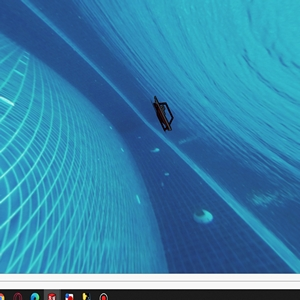submarine: (152, 99, 176, 129)
